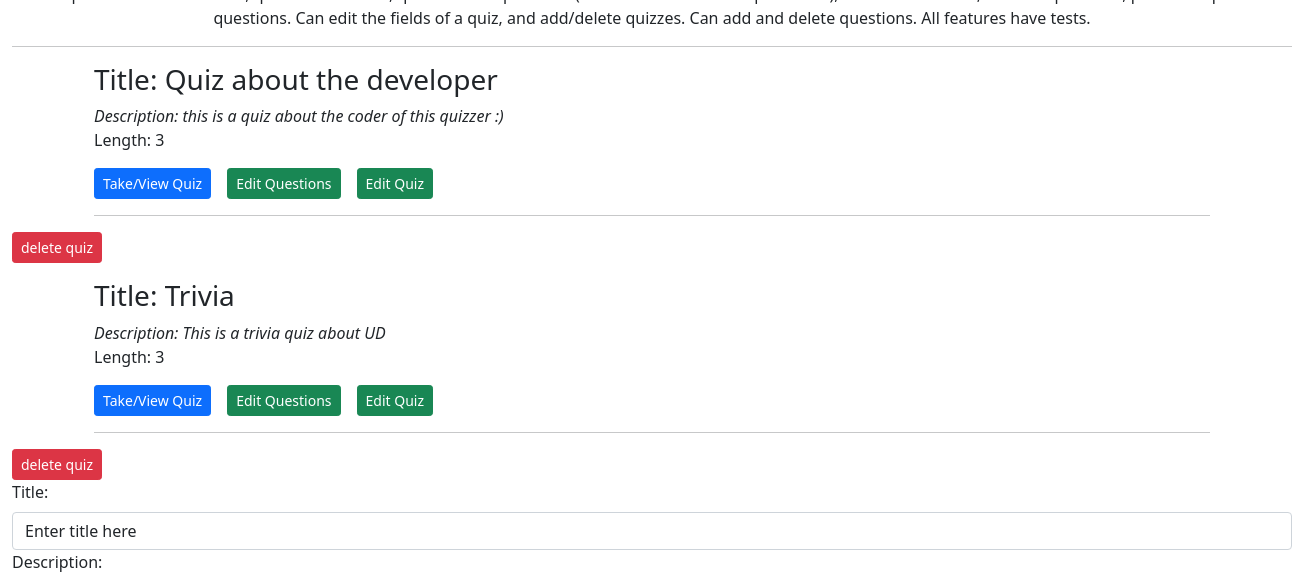
it: Quizzer Tests › Add Questions
(page scrolled)
Click the button "Edit Questions" below "Quiz about the developer": (284, 184) [227,168,341,199]
(page scrolled)
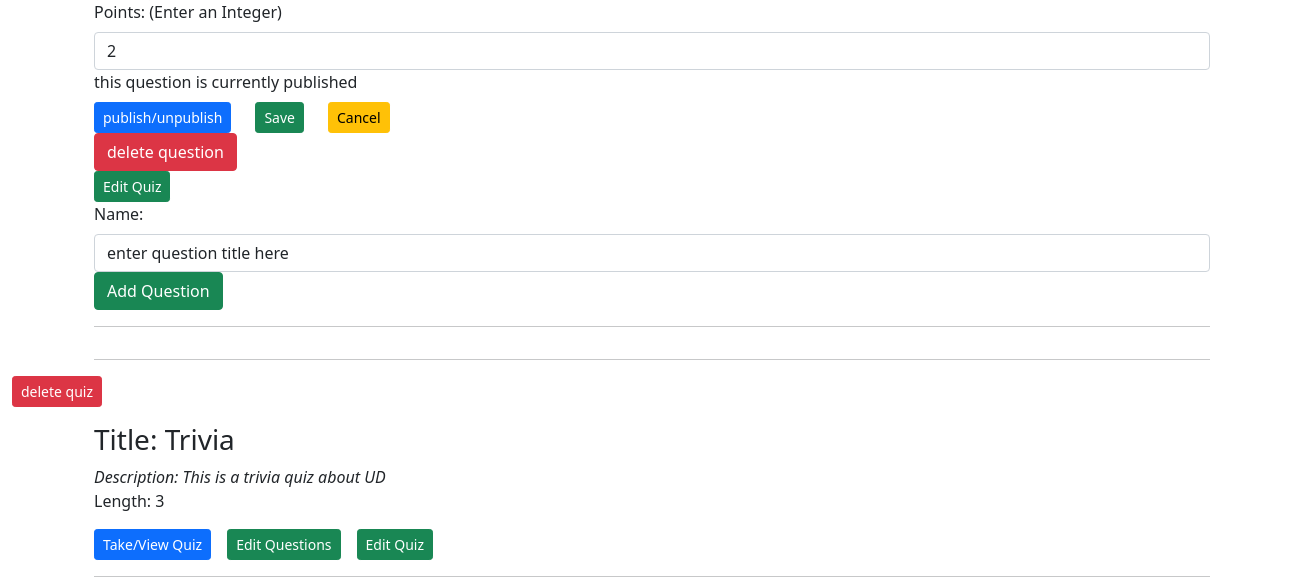
Click the button "Add Question": (158, 291) [94,272,223,310]
(page scrolled)
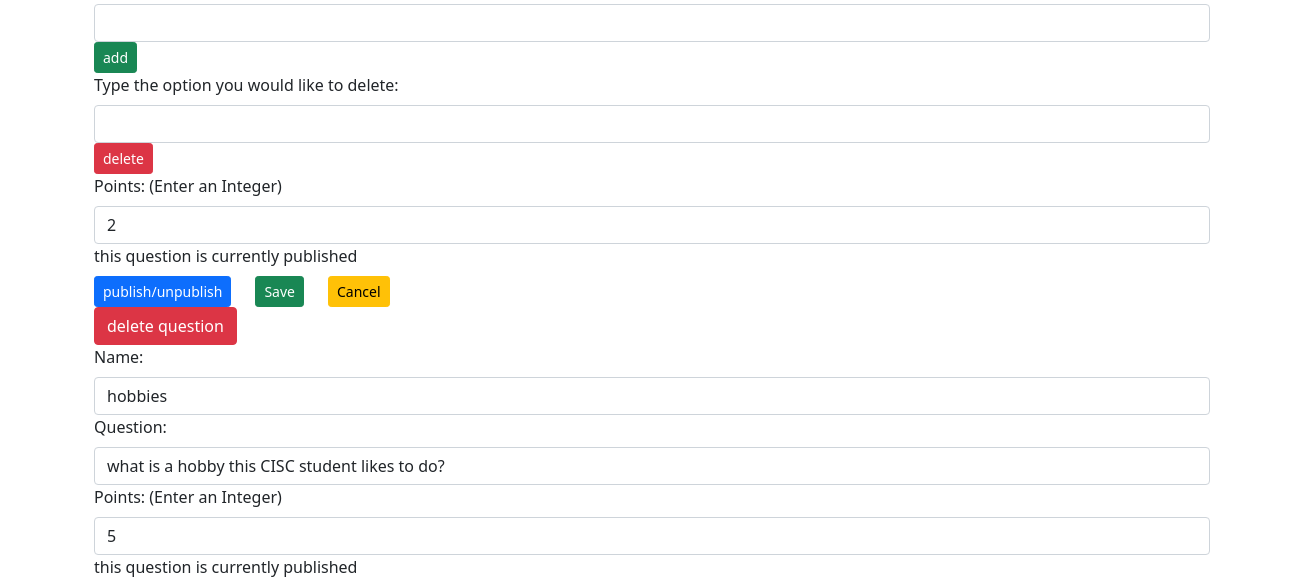
Click the button with test id "save": (280, 292) [255,276,304,307]
(page scrolled)
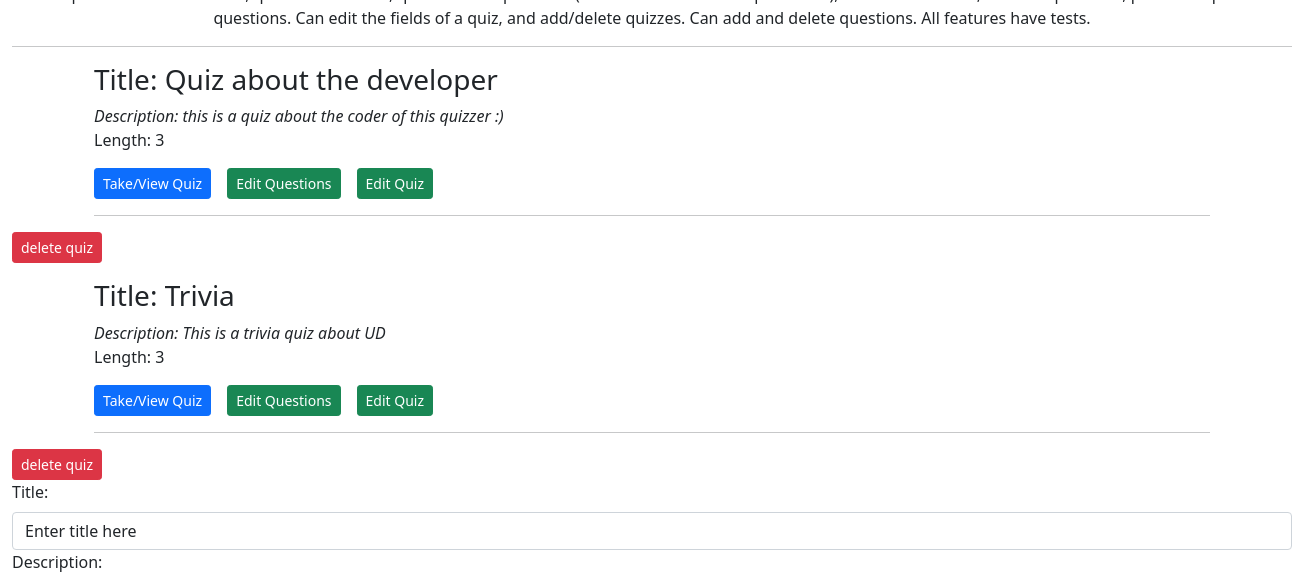
Click the button "Take/View Quiz" below "Quiz about the developer": (153, 184) [94,168,211,199]
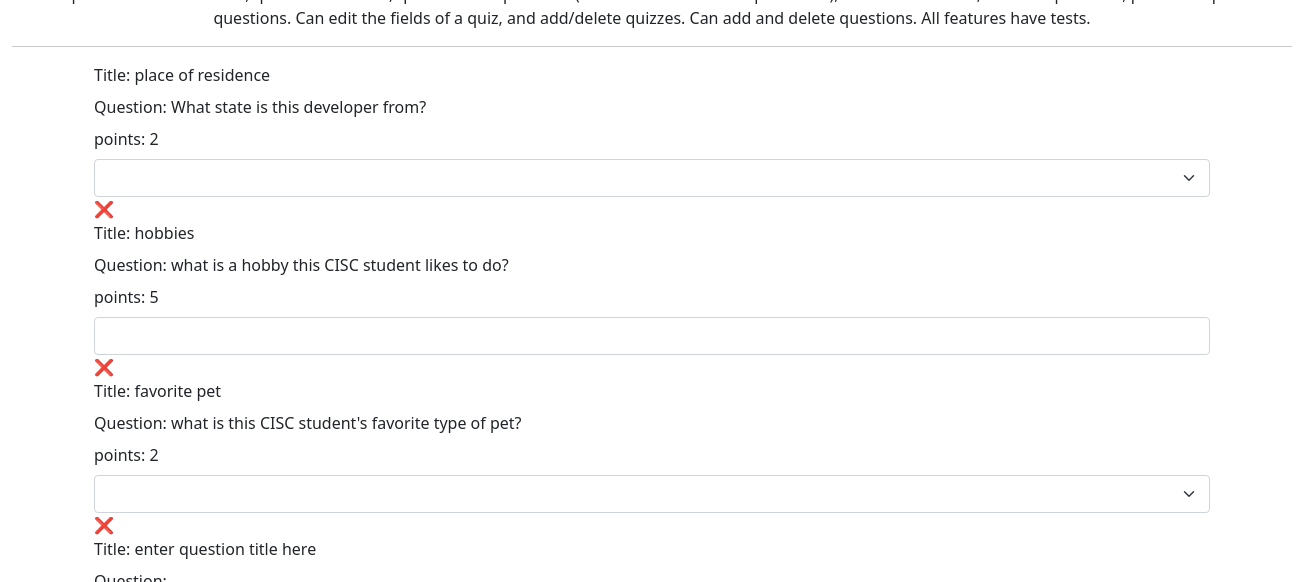
Result: the text "Title: enter question title here" is shown at [94,537,316,561]
